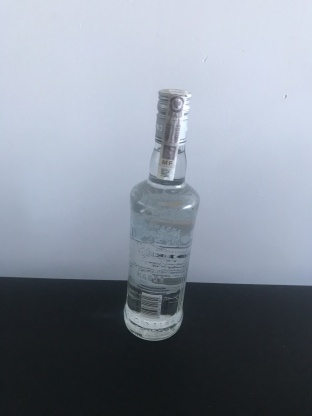nakretka: (153, 84, 193, 149)
